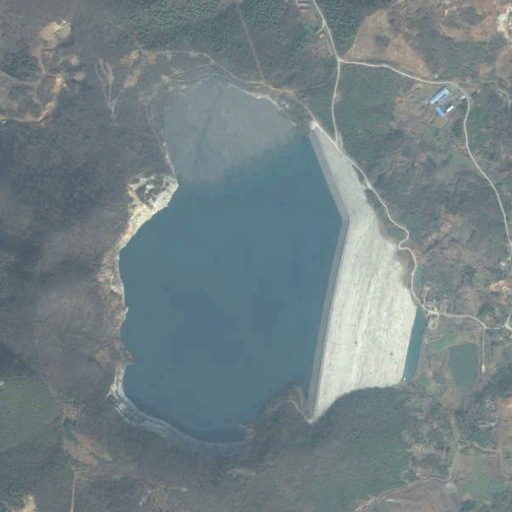tp: (109, 74, 423, 447)
